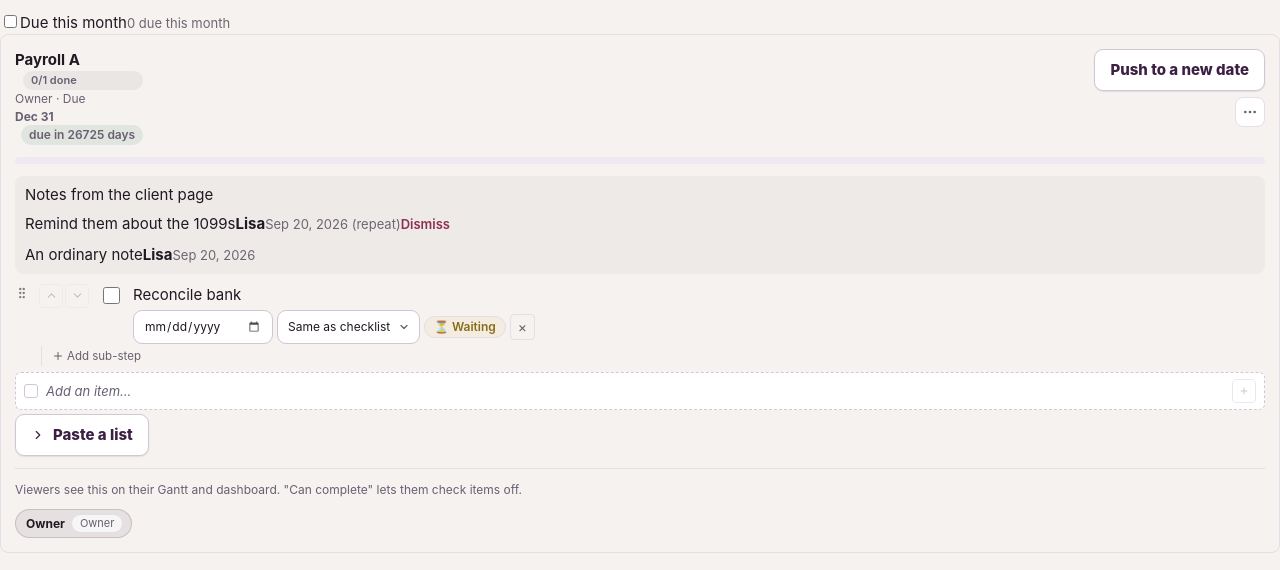
Dismiss on the checklist card › asks nothing, dismisses that note, and it leaves the card at once
Check: the text "Remind them about the 1099s" is shown, box [25,214,236,233]
Step 1. Click the button "Dismiss" → x=425, y=225, box [401,211,450,238]
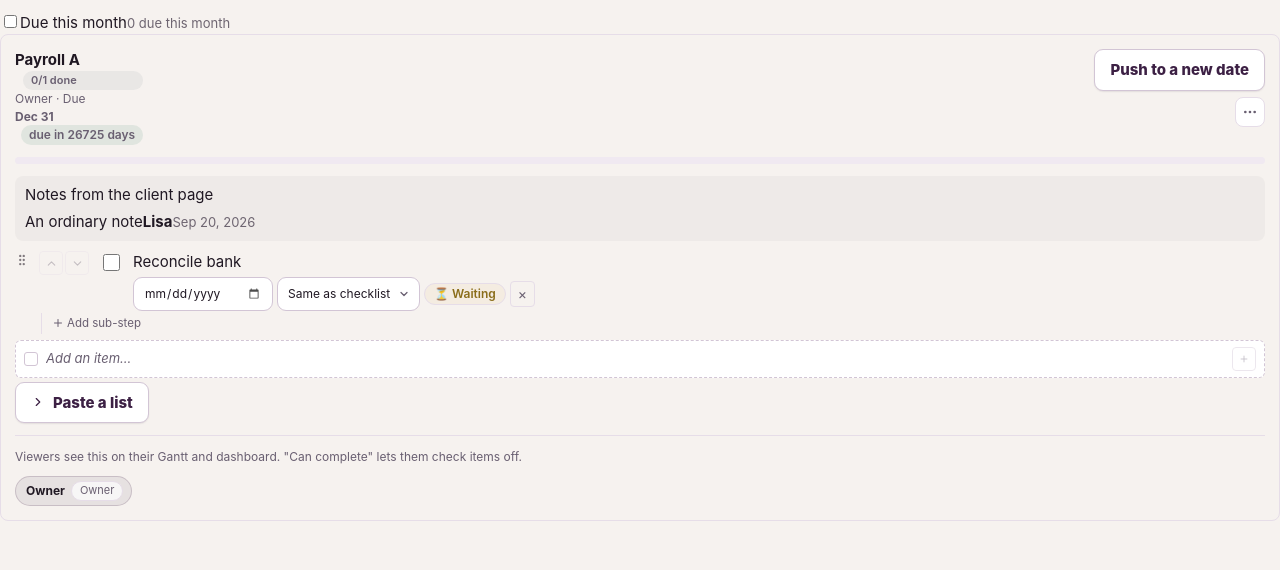
Check: the text "An ordinary note" is shown, box [25,212,143,231]
Check: the text "Remind them about the 1099s" is gone
